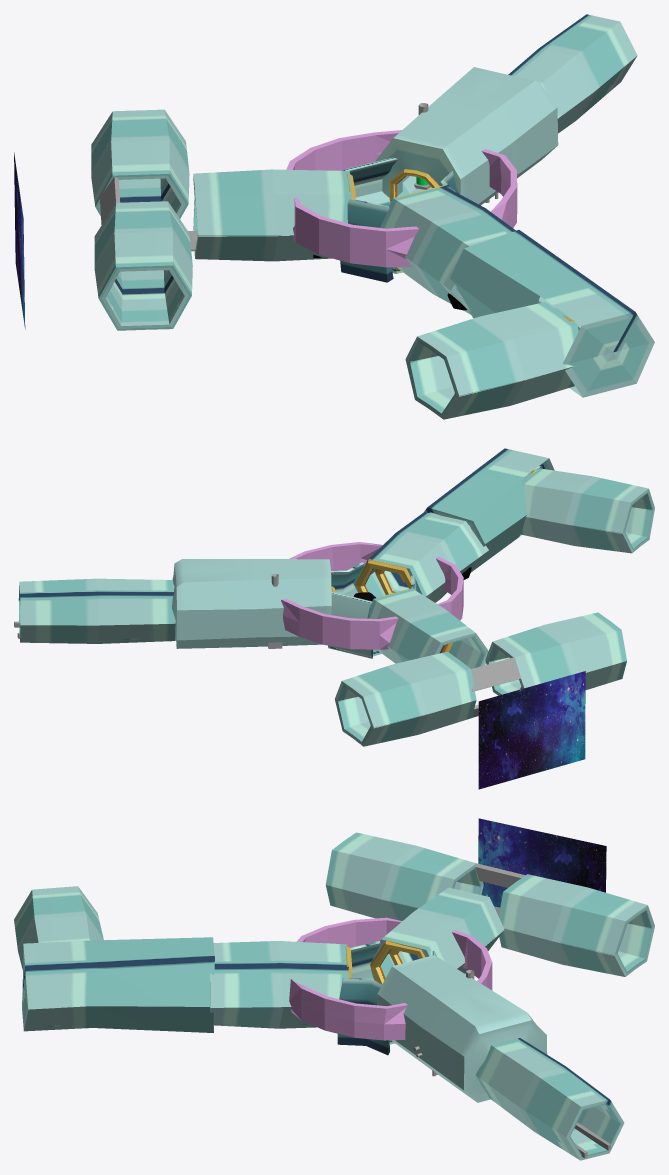
The model's file is HVArena8.fbx.
3 renders of one model, top to bottom at view 1: azimuth 30°, elevation 25°; view 2: azimuth 150°, elevation 25°; view 3: azimuth 270°, elevation 25°, orthographic. The views are drawn at different scales.
Parts seen in each view (by area): view 1: pTorus22, pTorus13, pTorus23, pTorus17, pTorus16, polySurface1, pTorus15, pTorus8, pTorus9, pCube8, pCube9, pPlane1 (+1 smaller); view 2: pTorus13, pTorus8, pPlane1, pTorus15, pTorus23, pTorus16, pTorus22, pTorus9, polySurface1, pTorus17, pCube9, Backwall (+2 smaller); view 3: pTorus22, pTorus13, pTorus15, pTorus8, pTorus9, pTorus16, polySurface1, pPlane1, pTorus17, pTorus23, pCube10, pCube8 (+2 smaller).
Boxes of the visible parts, box(x1,y1,x2,y2) form: pTorus22: box(450, 230, 654, 397); pTorus13: box(375, 67, 558, 205); pTorus23: box(405, 302, 578, 419); pTorus17: box(193, 169, 351, 261); pTorus16: box(94, 201, 192, 330); polySurface1: box(286, 130, 517, 267); pTorus15: box(91, 109, 189, 218); pTorus8: box(508, 14, 637, 133); pTorus9: box(380, 185, 515, 314); pCube8: box(340, 199, 393, 282); pCube9: box(343, 157, 398, 206); pPlane1: box(14, 152, 25, 329); pTorus13: box(172, 559, 331, 648); pTorus8: box(18, 578, 175, 643); pPlane1: box(478, 671, 585, 789); pTorus15: box(335, 651, 476, 746); pTorus23: box(520, 468, 654, 553); pTorus16: box(485, 612, 626, 695); pTorus22: box(424, 448, 554, 572); pTorus9: box(353, 512, 488, 602); polySurface1: box(281, 542, 463, 649); pTorus17: box(368, 588, 488, 668); pCube9: box(328, 591, 372, 658); Backwall: box(471, 657, 521, 691); pTorus22: box(22, 937, 214, 1032); pTorus13: box(377, 955, 547, 1102); pTorus15: box(498, 874, 654, 976); pTorus8: box(475, 1038, 624, 1160); pTorus9: box(210, 941, 348, 1028); pTorus16: box(325, 832, 483, 920); polySurface1: box(289, 917, 492, 1040); pPlane1: box(478, 818, 606, 907); pTorus17: box(370, 887, 504, 981); pTorus23: box(14, 886, 103, 969); pCube10: box(337, 978, 389, 1055); pCube8: box(350, 941, 380, 979).
Size of the model in its own units: 62.77 by 12.03 by 59.1.
